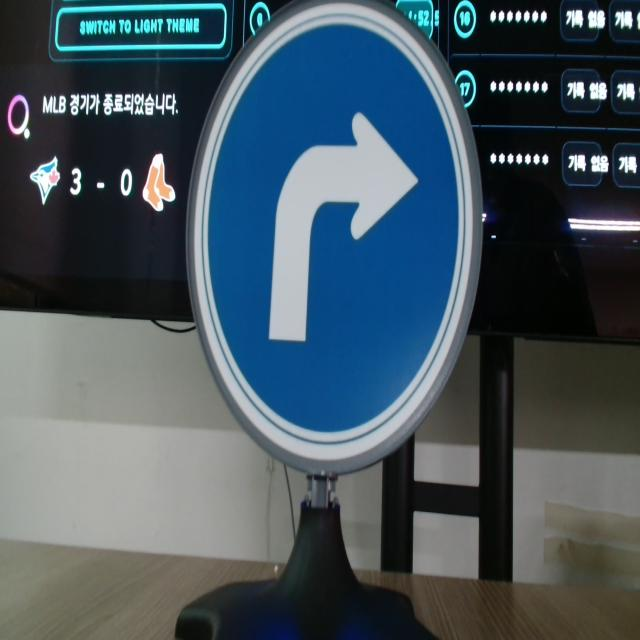right_dierection: (192, 1, 494, 533)
